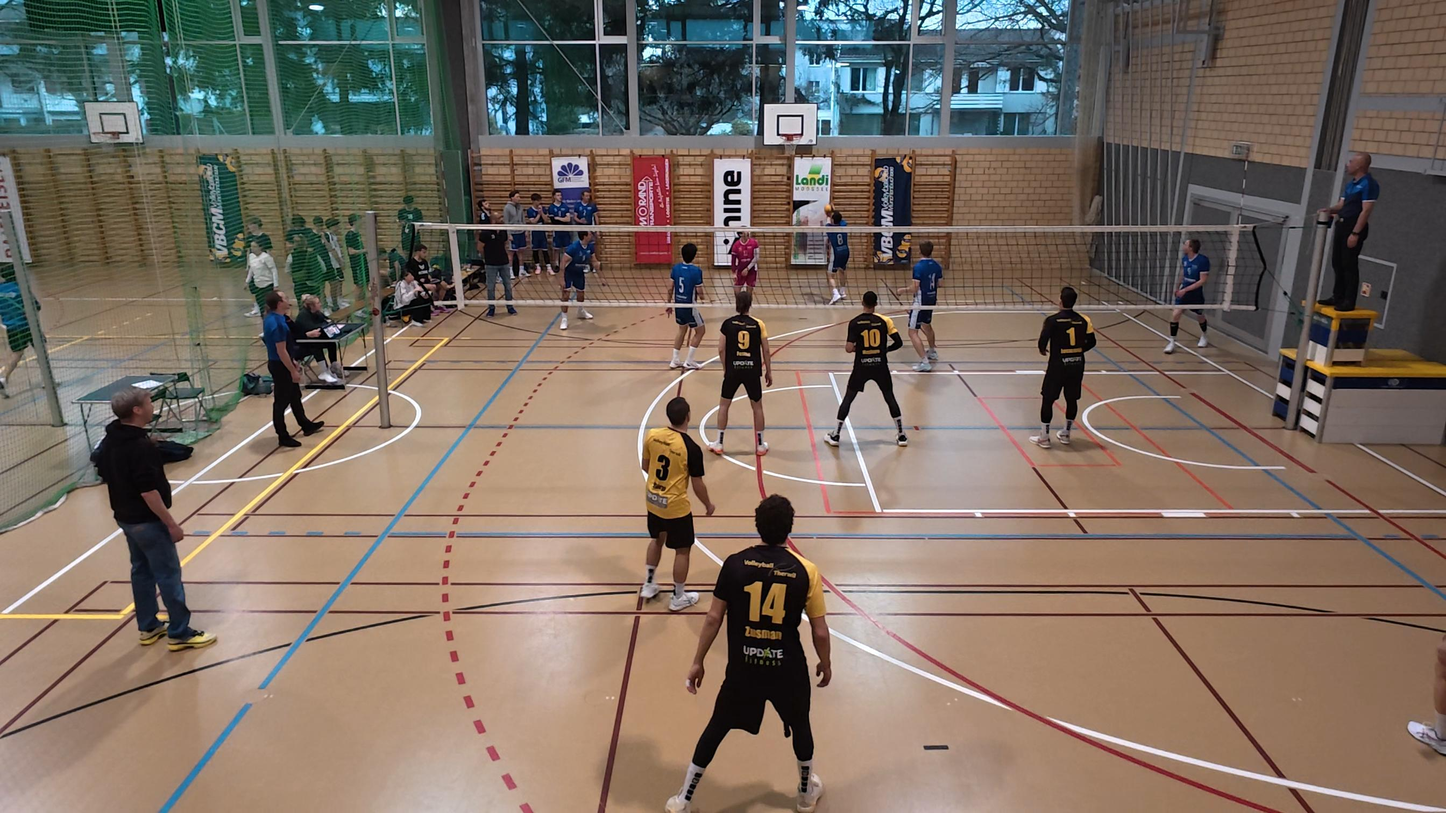Player: (667, 494, 832, 811), (641, 396, 715, 611), (825, 289, 910, 447), (703, 292, 771, 456), (1033, 286, 1097, 447), (1164, 237, 1212, 354), (666, 241, 707, 371), (904, 242, 944, 372), (555, 231, 597, 333), (723, 221, 760, 315)
Set: (822, 203, 854, 306)
ball: (822, 200, 835, 218)
